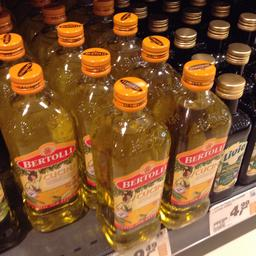oil: (0, 61, 87, 232), (88, 76, 171, 252), (153, 60, 230, 230)
